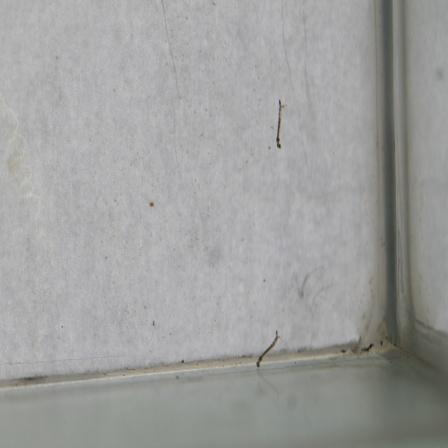Jentik-Nyamuk: (253, 328, 282, 371), (269, 98, 288, 151)
